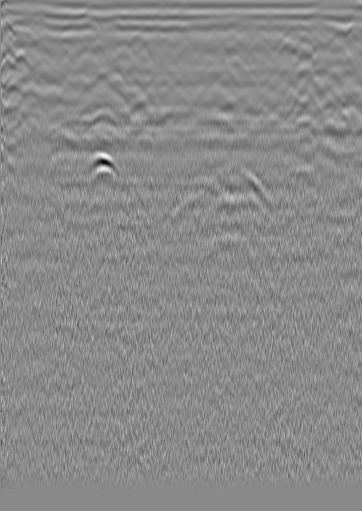가스: (83, 148, 119, 181)
상수: (325, 24, 345, 44)
오수: (31, 16, 51, 36)
우수: (199, 18, 219, 38)
